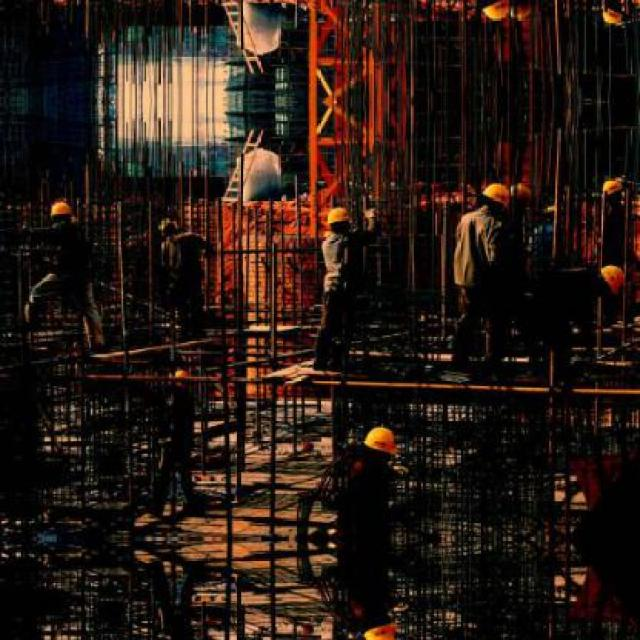helmet: (363, 422, 397, 462), (592, 261, 626, 296), (480, 179, 508, 221), (322, 204, 352, 236), (363, 614, 399, 638), (601, 174, 624, 208), (49, 198, 71, 230), (600, 0, 625, 28), (480, 0, 509, 22), (163, 366, 188, 391), (157, 214, 178, 241)
